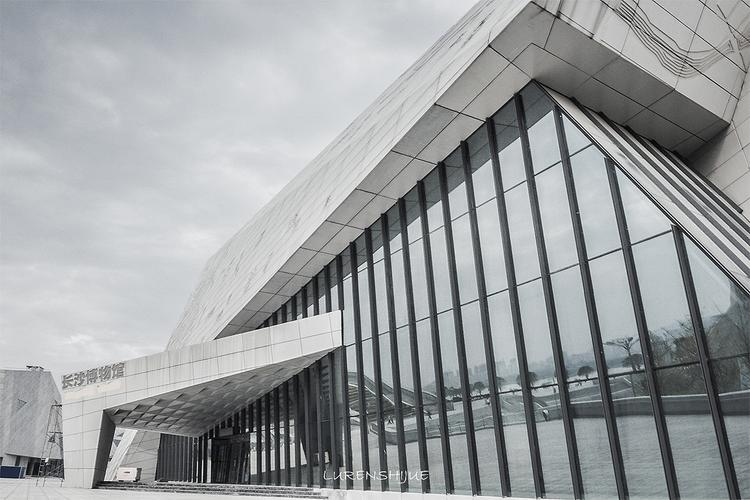buildings: (32, 75, 750, 481)
